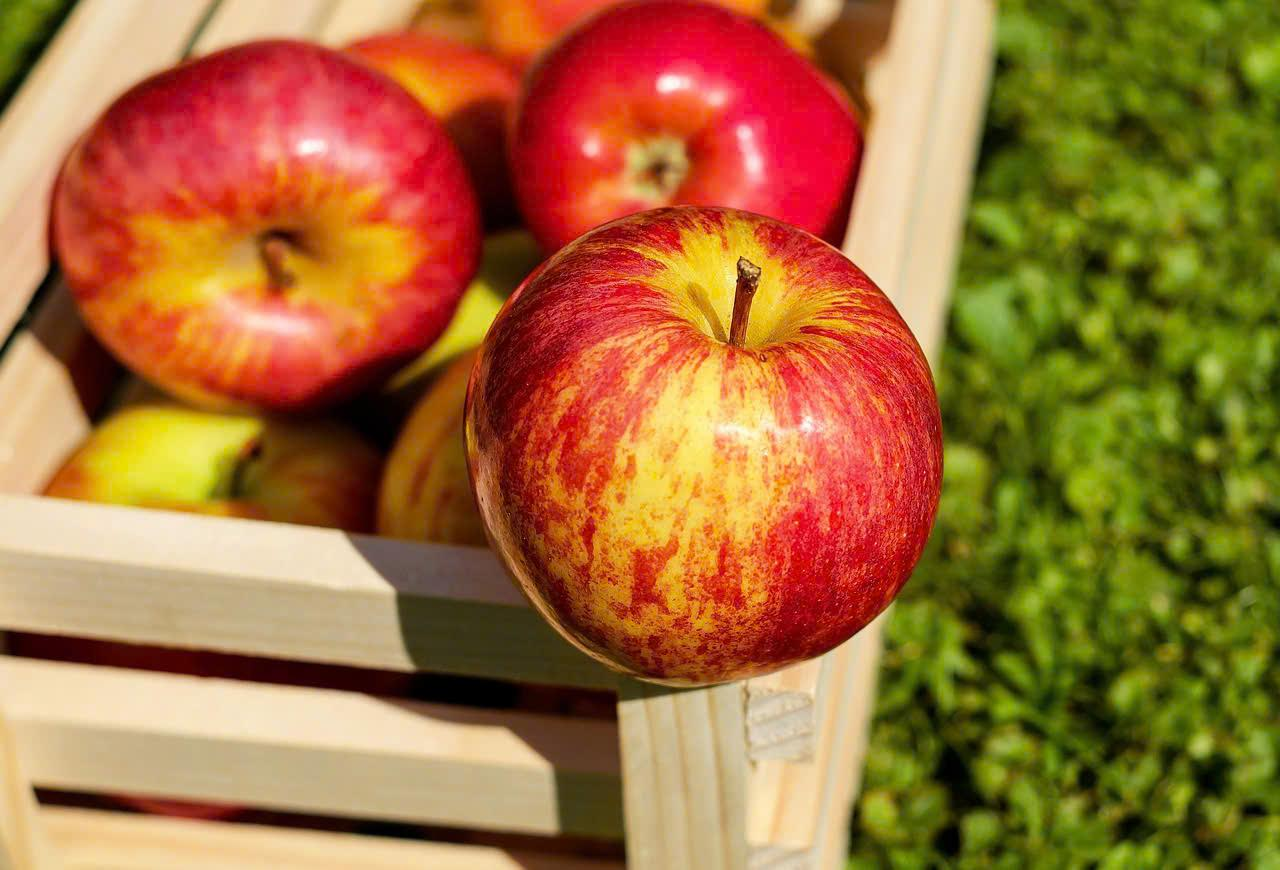apple: (472, 201, 934, 677), (48, 54, 479, 403), (499, 0, 850, 229)
